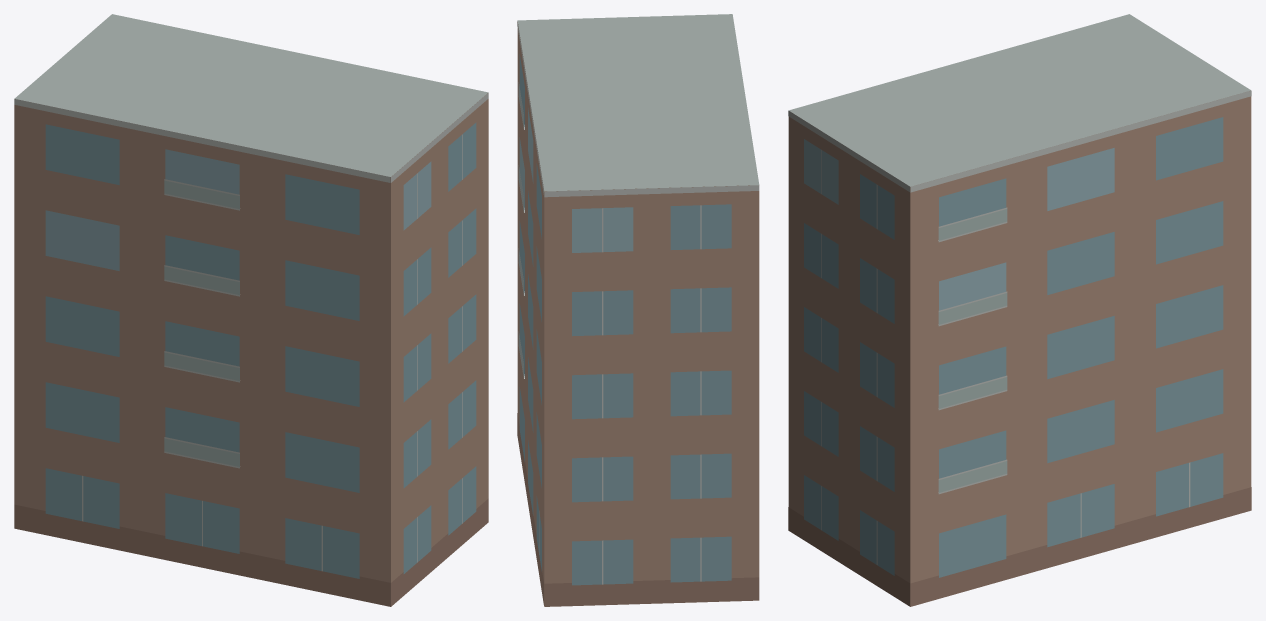
Rendered from survey-upis-32619773.glb.
3 renders of one model, left to right at view 1: azimuth 30°, elevation 25°; view 2: azimuth 150°, elevation 25°; view 3: azimuth 270°, elevation 25°, orthographic. The views are drawn at different scales.
Parts seen in each view (by area): view 1: survey-upis-32619773.tmp; view 2: survey-upis-32619773.tmp; view 3: survey-upis-32619773.tmp.
Part boxes in pixels (x1,y1,x2,y2): survey-upis-32619773.tmp: [14, 14, 488, 606]; survey-upis-32619773.tmp: [517, 14, 759, 606]; survey-upis-32619773.tmp: [788, 14, 1251, 606].
Bounding box in the file's own units: 15.48 × 17.54 × 17.53.
